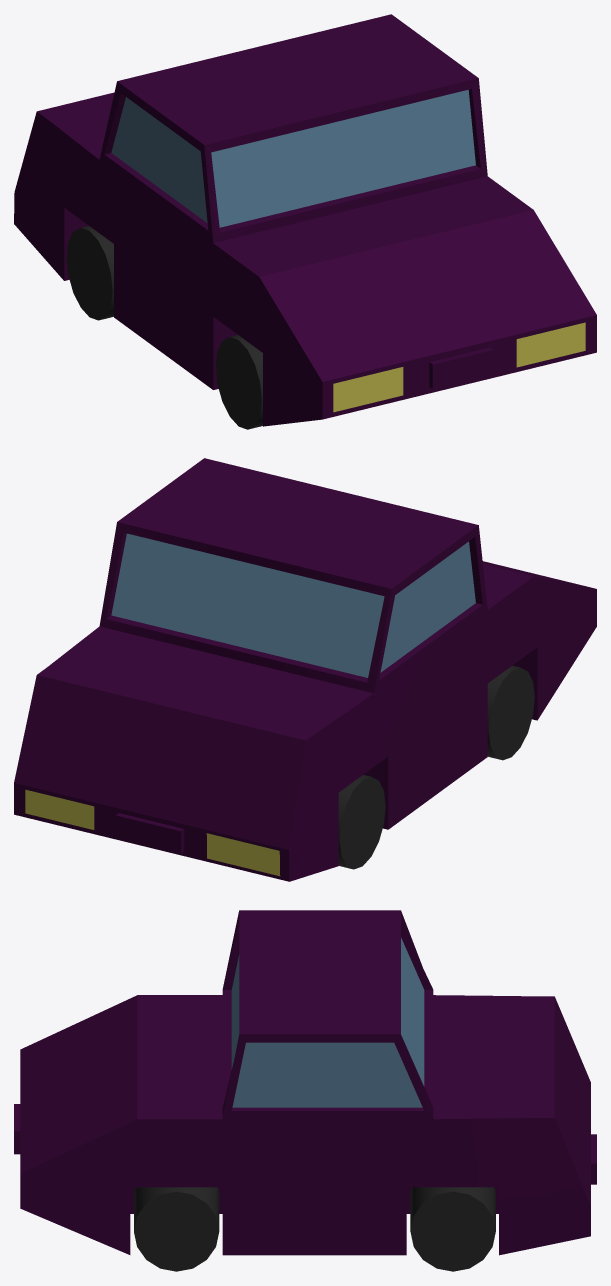
Rendered from car.fbx.
3 views of the same model, one above another, from view 1: azimuth 30°, elevation 25°; view 2: azimuth 150°, elevation 25°; view 3: azimuth 270°, elevation 25° (orthographic). The views are drawn at different scales.
Visible parts, largest first — view 1: car_body, wheel_3, wheel_4; view 2: car_body, wheel_4, wheel_3; view 3: car_body, wheel_2, wheel_1.
Part boxes in pixels (<box>): car_body: <box>14,14,596,426</box>; wheel_3: <box>66,226,113,320</box>; wheel_4: <box>215,335,262,429</box>; car_body: <box>14,458,596,881</box>; wheel_4: <box>487,665,534,760</box>; wheel_3: <box>338,775,385,869</box>; car_body: <box>14,910,596,1255</box>; wheel_2: <box>410,1187,495,1271</box>; wheel_1: <box>134,1187,219,1271</box>.
Bounding box in the file's own units: 1.6 × 1.43 × 3.16.
